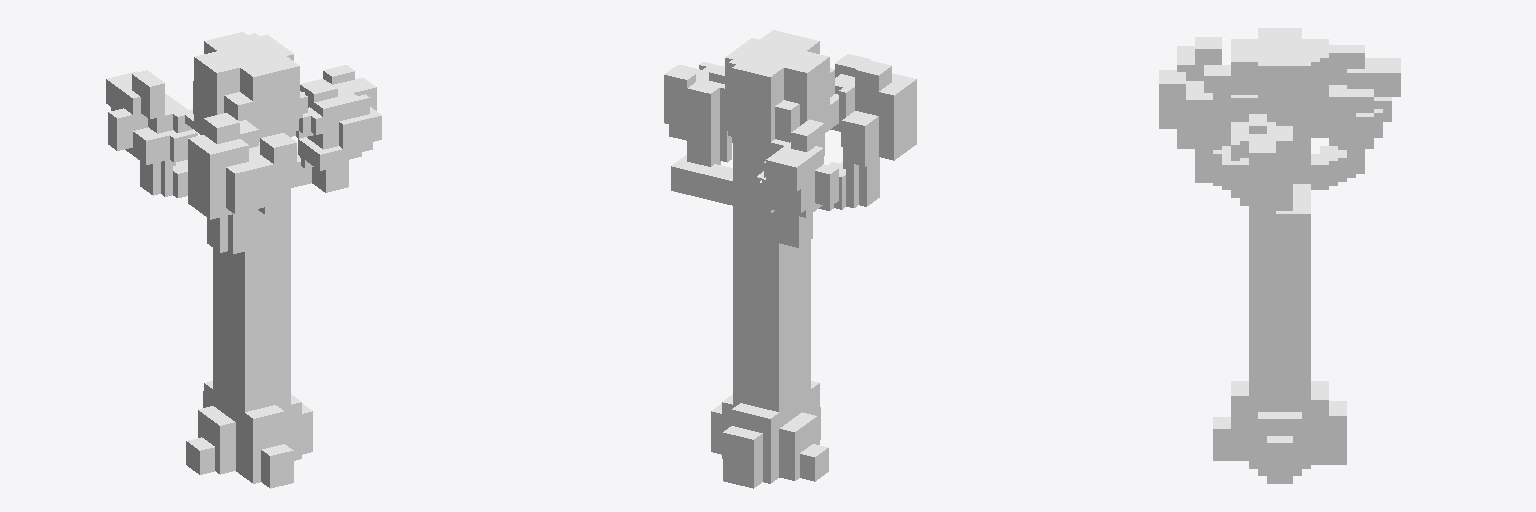
The model's file is Tree_01.obj.
3 views of the same model, side by side, from view 1: azimuth 30°, elevation 25°; view 2: azimuth 150°, elevation 25°; view 3: azimuth 270°, elevation 25° (orthographic).
Parts seen in each view (by area): view 1: object 1; view 2: object 1; view 3: object 1.
Part boxes in pixels (x1,y1,x2,y2): object 1: (106, 32, 381, 488); object 1: (664, 30, 916, 488); object 1: (1159, 28, 1400, 483).
Size of the model in its own units: 2.7 by 5 by 2.7.